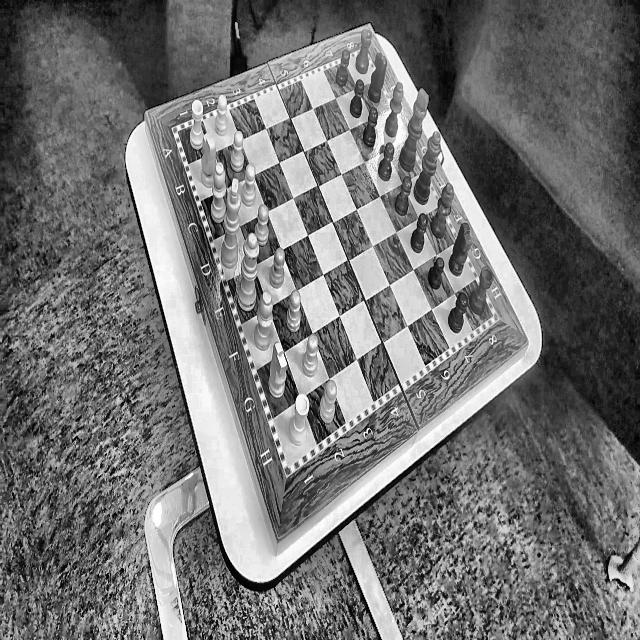chessboard: (178, 54, 494, 465)
